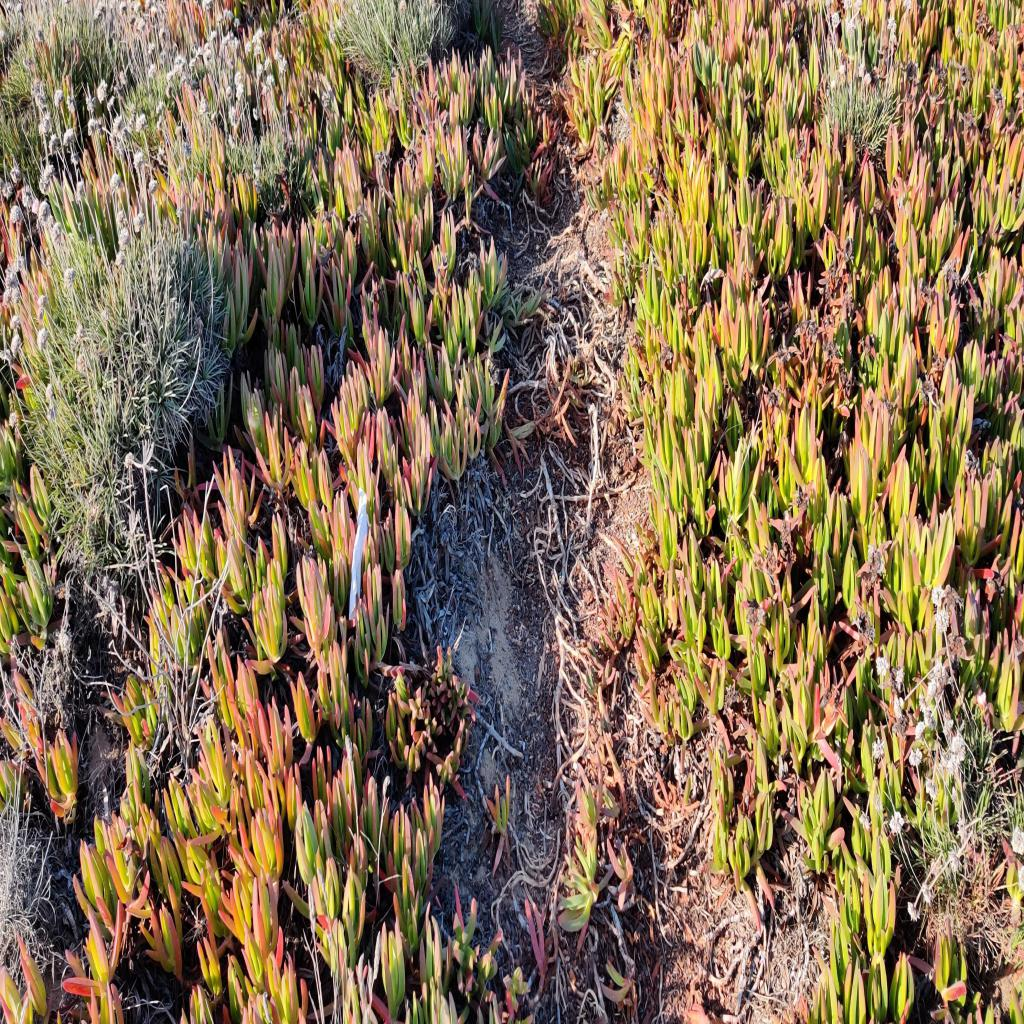Unlabeled litter: (349, 488, 367, 620)
